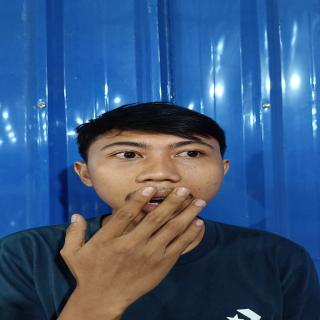Takut: (84, 128, 230, 230)
